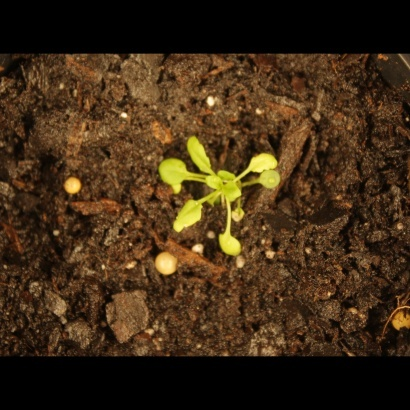leaf: (168, 199, 207, 237), (187, 133, 218, 176), (158, 157, 189, 189), (216, 231, 245, 263), (247, 150, 282, 173), (259, 168, 284, 192), (223, 180, 246, 203), (202, 175, 225, 198), (234, 202, 257, 225), (218, 160, 241, 183)
